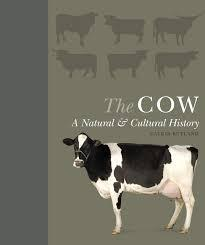cow: (63, 131, 199, 235), (55, 10, 100, 47), (152, 15, 202, 46), (107, 48, 150, 80), (54, 48, 98, 79), (154, 49, 198, 79), (104, 14, 146, 44)
